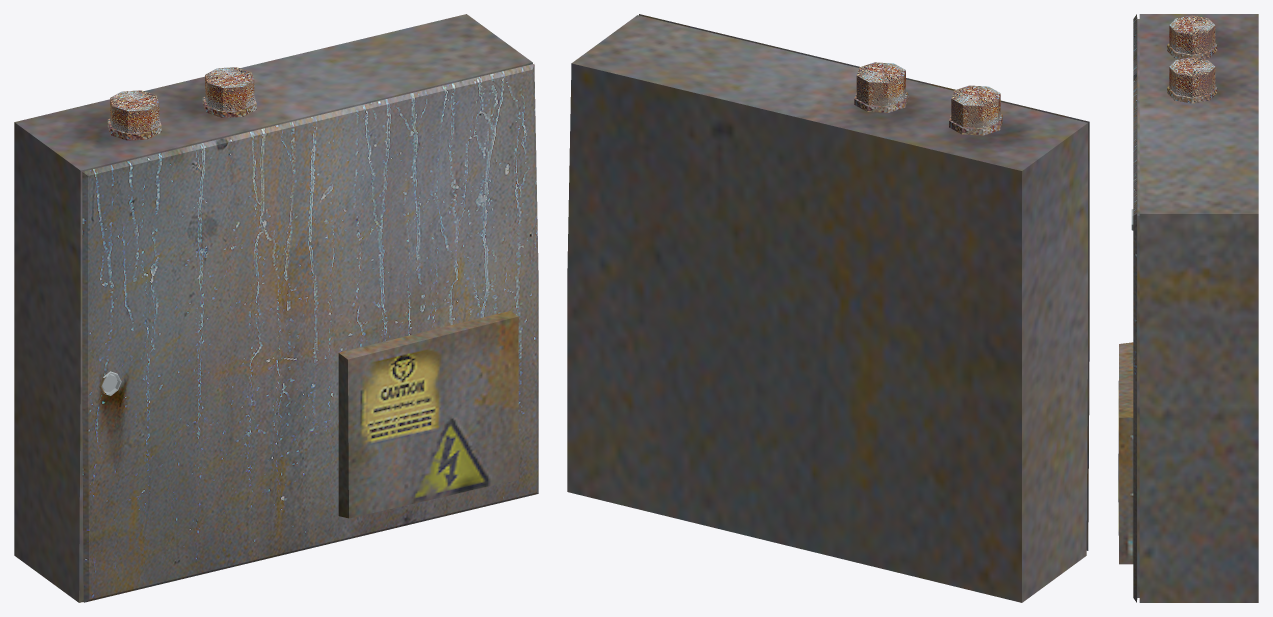
Rendered from object_electric_locker01.dae.
3 views of the same model, side by side, from view 1: azimuth 30°, elevation 25°; view 2: azimuth 150°, elevation 25°; view 3: azimuth 270°, elevation 25° (orthographic). The views are drawn at different scales.
Visible parts, largest first — view 1: electriclocker; view 2: electriclocker; view 3: electriclocker.
Part boxes in pixels (x1=…): electriclocker: x1=14, y1=14, x2=538, y2=602; electriclocker: x1=567, y1=14, x2=1089, y2=602; electriclocker: x1=1118, y1=14, x2=1258, y2=602.
Size of what is drawn, in the model's own units: 0.3584 by 0.3463 by 0.1063.
1 material, 1 textured.
